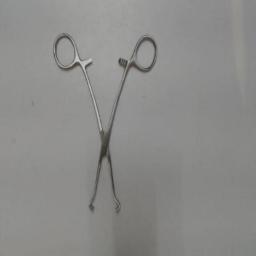Babcock Tissue Forceps: (48, 32, 160, 216)
